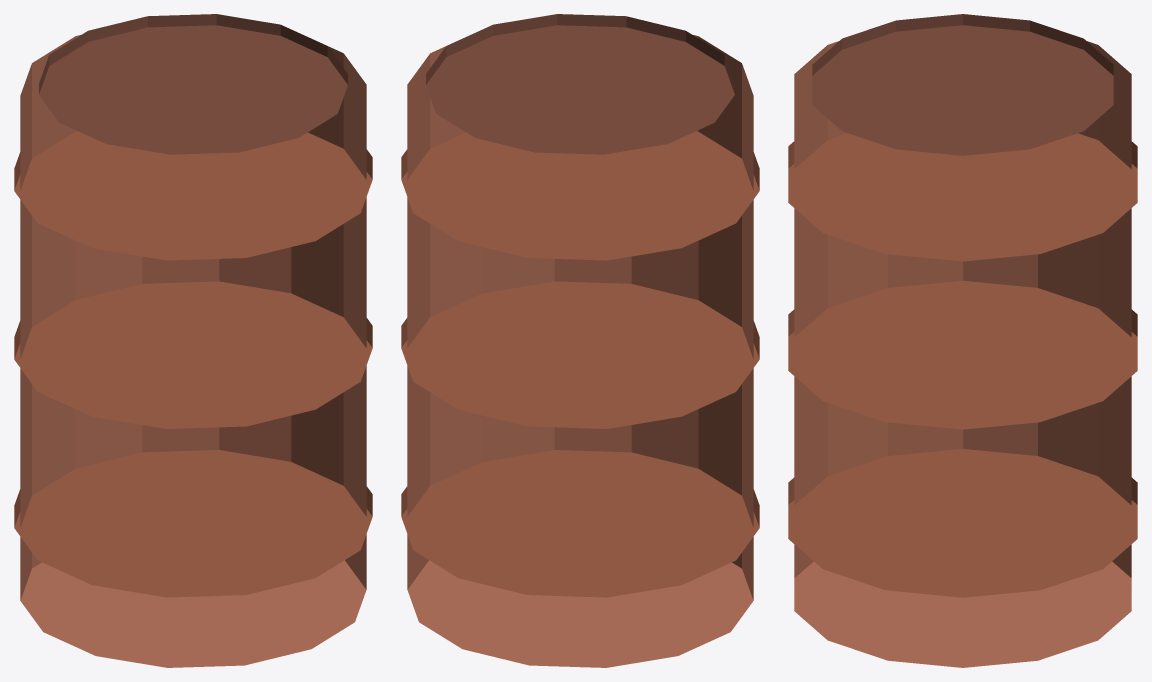
File: barril.glb
3 views of the same model, side by side, from view 1: azimuth 30°, elevation 25°; view 2: azimuth 150°, elevation 25°; view 3: azimuth 270°, elevation 25° (orthographic).
Visible parts, largest first — view 1: barril; view 2: barril; view 3: barril.
Part boxes in pixels (left/top/right/bottom): barril: left=14, top=14, right=372, bottom=667; barril: left=401, top=14, right=759, bottom=667; barril: left=788, top=14, right=1137, bottom=667.
Bounding box in the file's own units: 0.58 × 0.92 × 0.5655.
